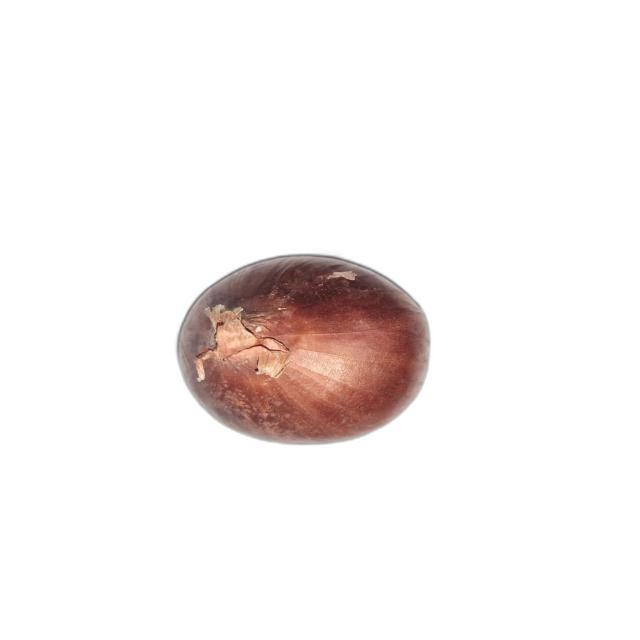onion: (179, 256, 431, 446)
